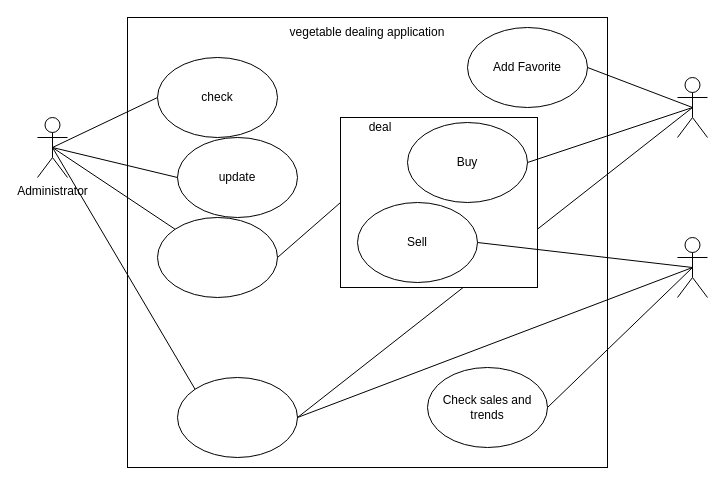
Image size: 725x485. Some labels were removed from this diagram. The shapes that lost their labels are listed below. From the top down, each one's box as (x1, y1, x2, y2) in pixels, then its label:
(676, 76, 708, 138): Buyer
(156, 216, 278, 298): support
(676, 236, 708, 298): Seller
(176, 376, 298, 458): login
